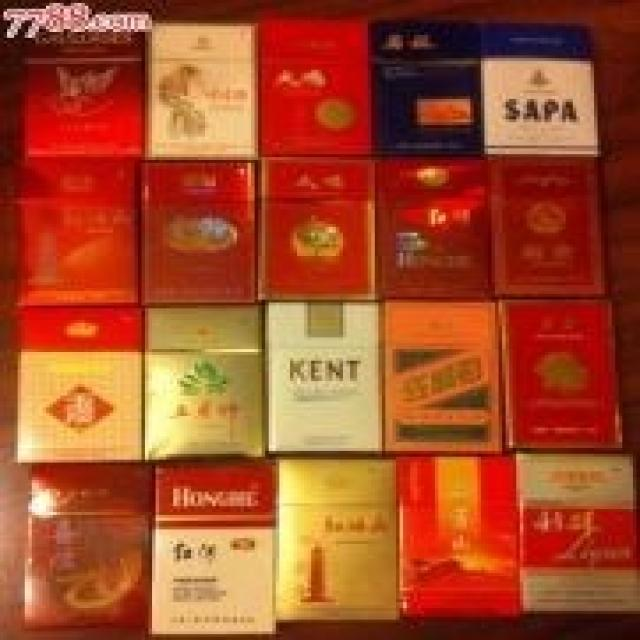box: (21, 465, 156, 631), (152, 457, 276, 634), (396, 451, 523, 617), (276, 454, 400, 623), (18, 305, 145, 465), (516, 451, 640, 611), (495, 300, 626, 451), (141, 303, 265, 460), (382, 300, 506, 454), (18, 154, 141, 305), (265, 300, 382, 457), (375, 154, 495, 300), (138, 160, 258, 305), (258, 157, 375, 303), (488, 154, 605, 297), (258, 17, 375, 157), (21, 23, 145, 154), (145, 23, 258, 160), (481, 23, 598, 154), (371, 20, 484, 154)
